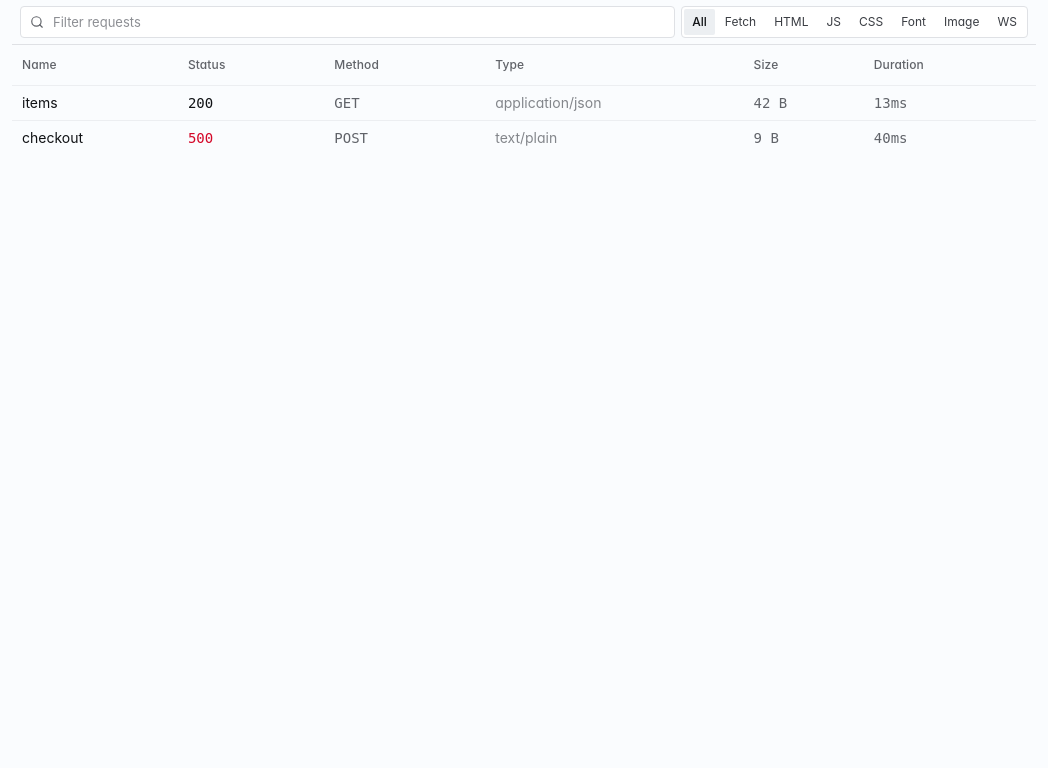
Test: NetworkTab › pretty-prints a JSON request body
This screenshot has width=1048, height=768.
Click the button "checkout" at [95, 138], box [22, 130, 168, 144]
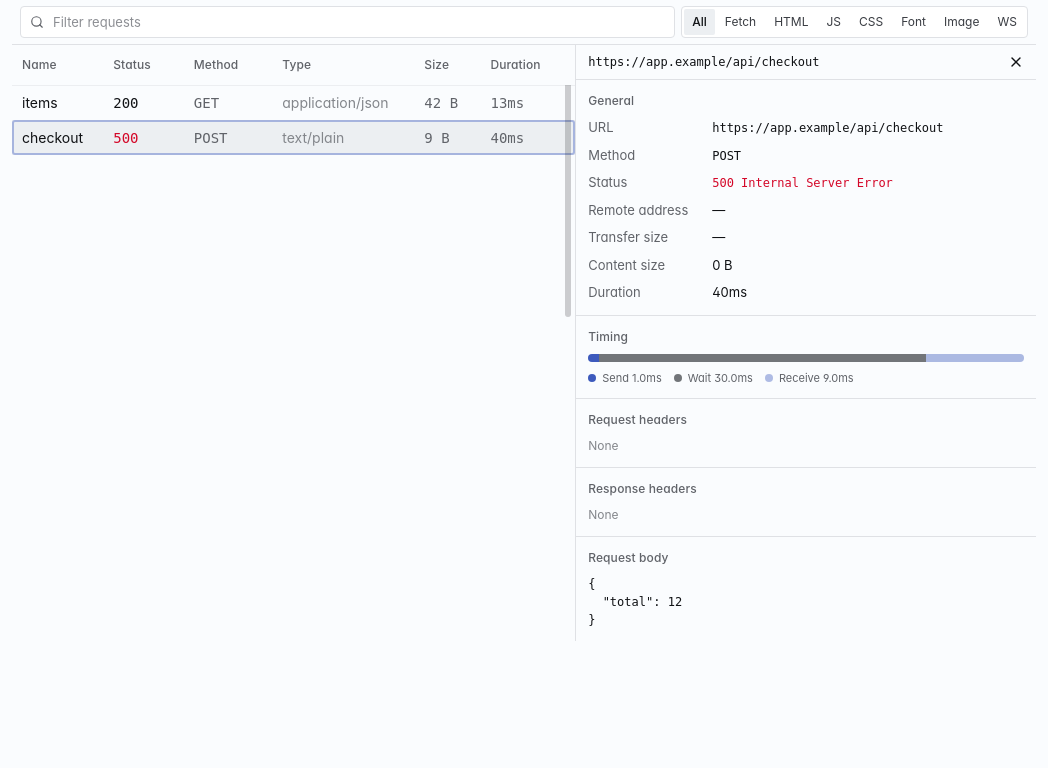
Expected: the heading "Request body" is shown, [588, 550, 669, 565]
Expected: the text "{ \"total\": 12 }" is shown, [588, 577, 682, 627]
